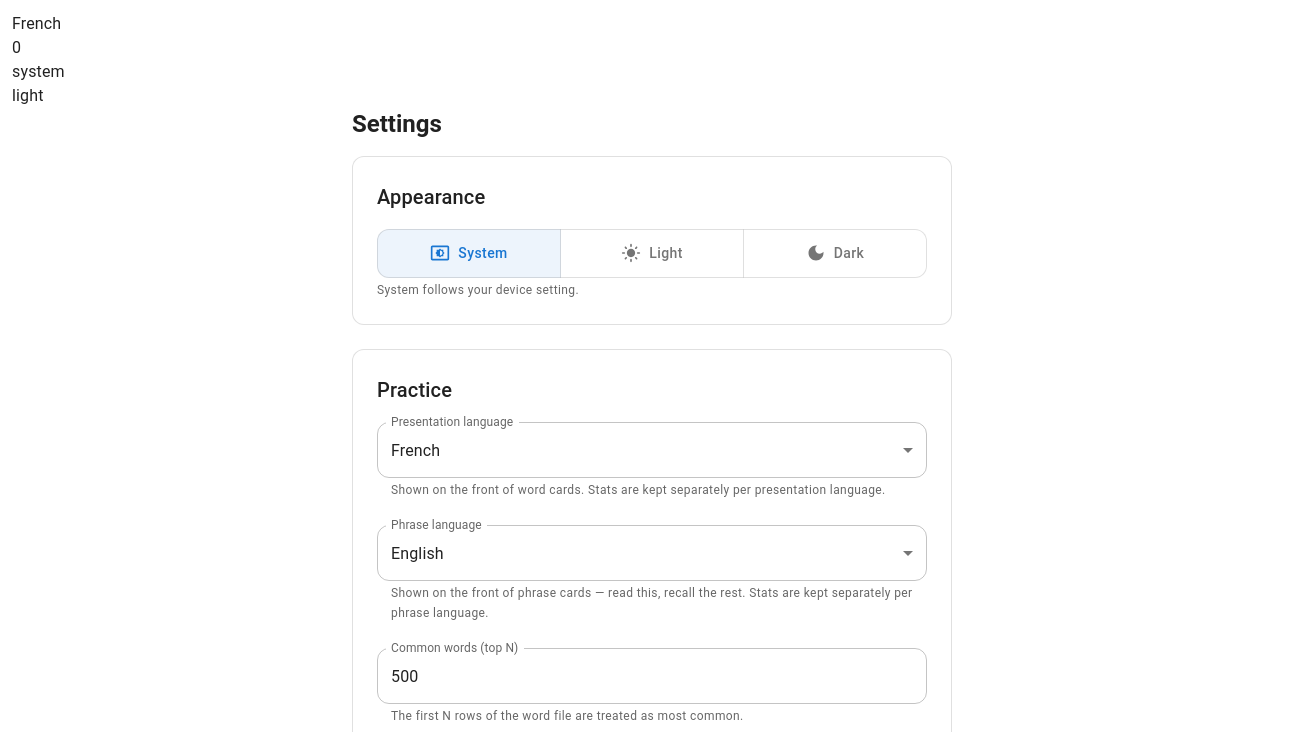
Test: SettingsPage › changes the presentation language
Expected: the heading "Practice" is shown, [377,378,452,402]
Press the mouse on the dropdown named "Presentation language": (416, 450) [391,441,440,460]
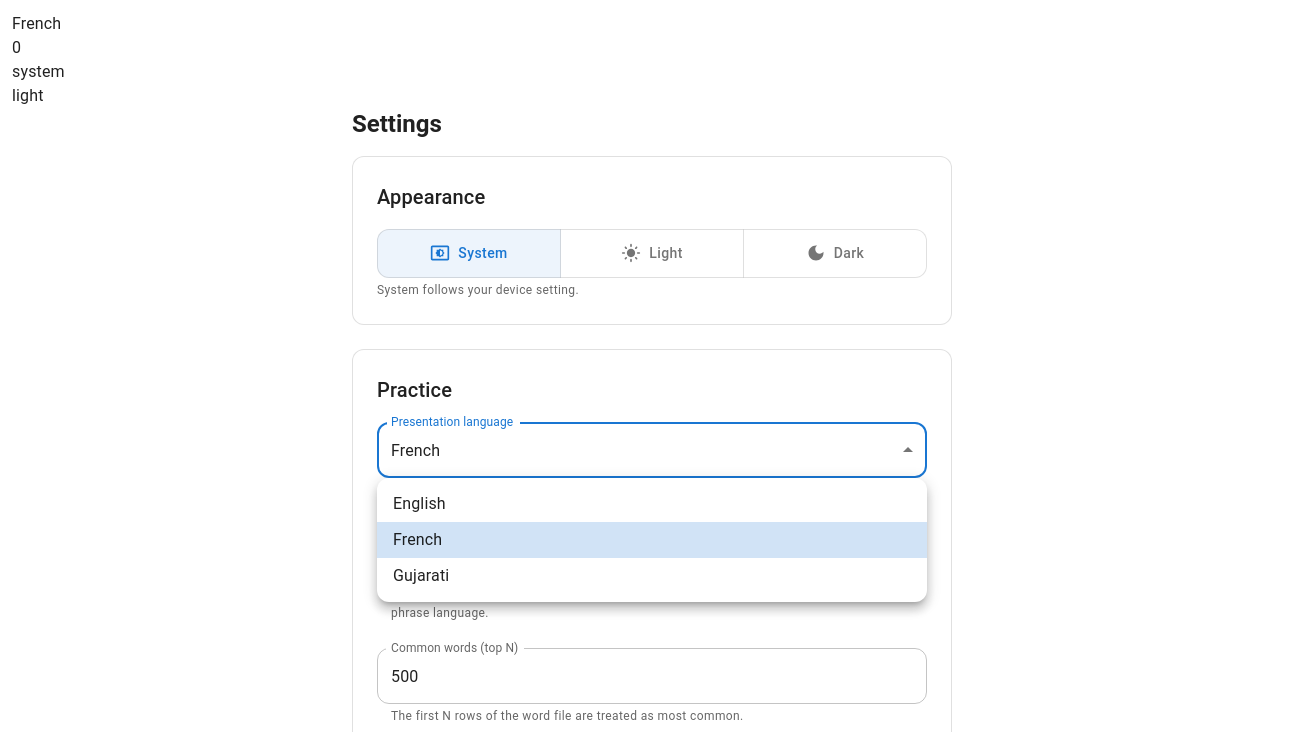
Click the option "Gujarati": (421, 576) [393,566,449,585]
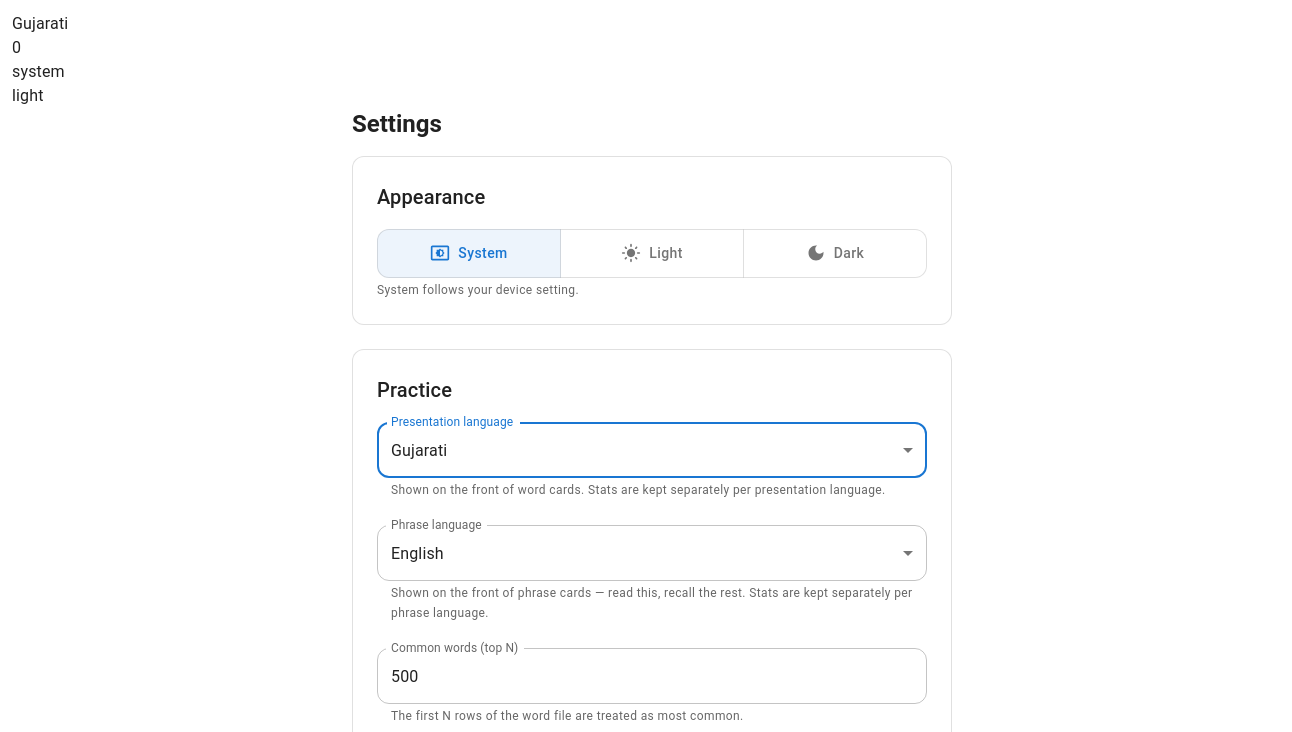
Expected: the text with test id "pres-lang" reads "Gujarati", [12,14,68,33]
